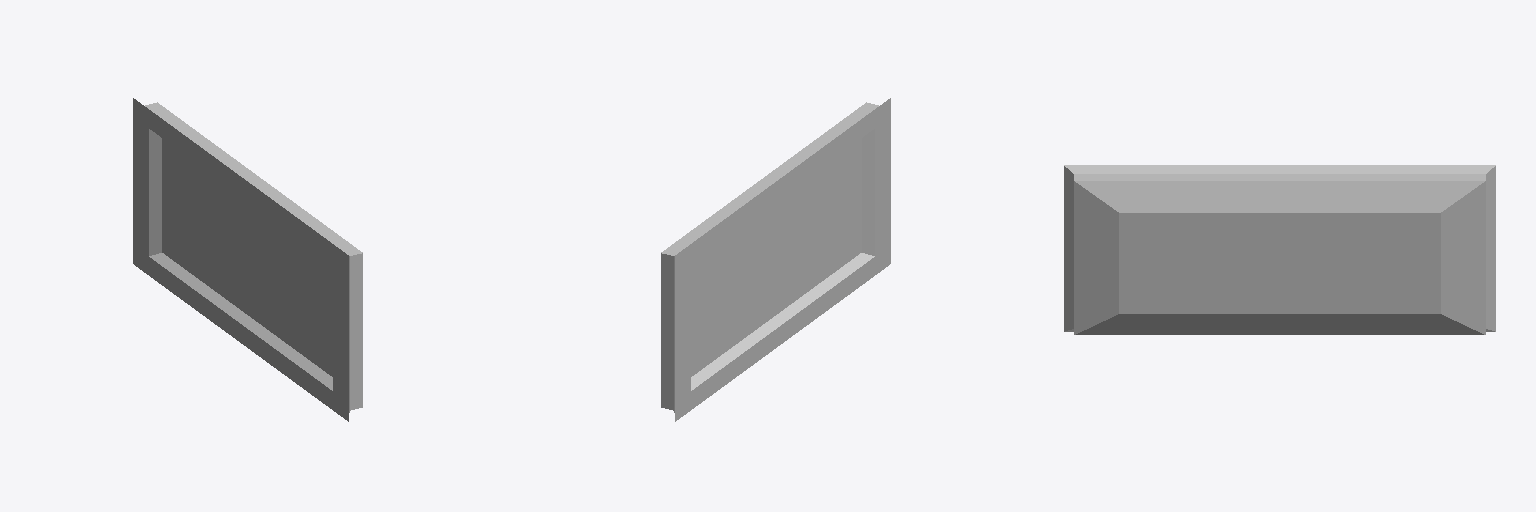
File: screen1.obj
3 views of the same model, side by side, from view 1: azimuth 30°, elevation 25°; view 2: azimuth 150°, elevation 25°; view 3: azimuth 270°, elevation 25° (orthographic).
Visible parts, largest first — view 1: initialShadingGroup pCube3; view 2: initialShadingGroup pCube3; view 3: initialShadingGroup pCube3.
Part boxes in pixels (x1,y1,x2,y2): initialShadingGroup pCube3: (133, 98, 362, 421); initialShadingGroup pCube3: (661, 98, 890, 421); initialShadingGroup pCube3: (1064, 165, 1495, 334).
Size of the model in its own units: 0.0997 by 0.5205 by 1.22.